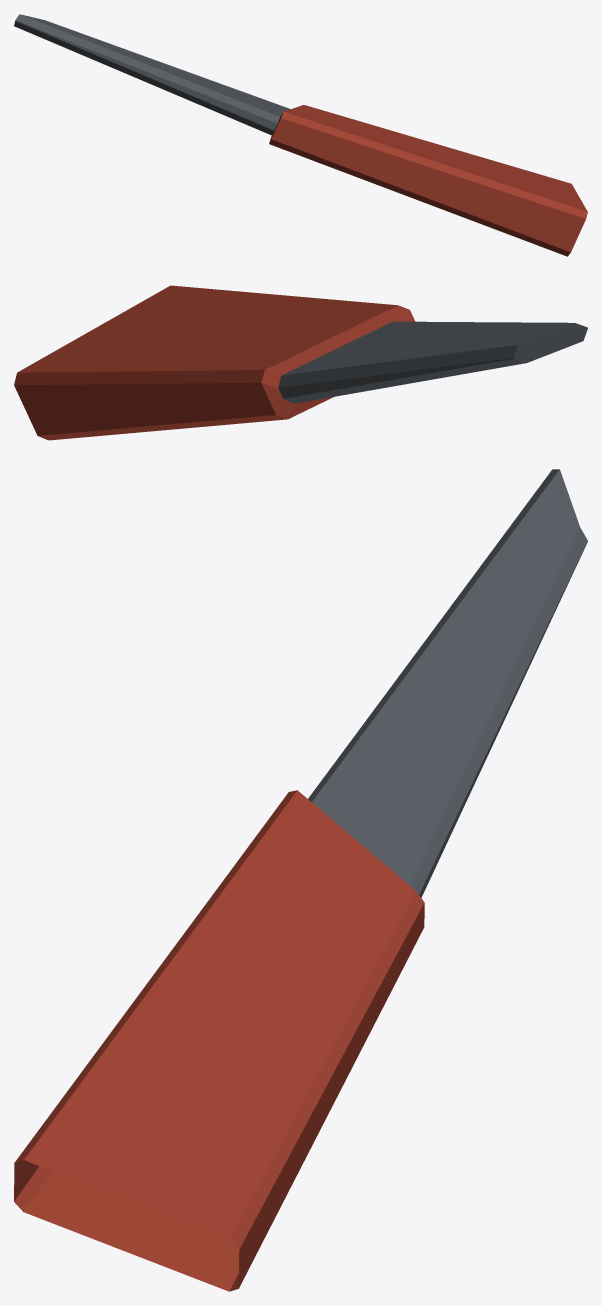
Rendered from Dropship_05_Wing_Right_Red.fbx.
3 views of the same model, one above another, from view 1: azimuth 30°, elevation 25°; view 2: azimuth 150°, elevation 25°; view 3: azimuth 270°, elevation 25° (orthographic). The views are drawn at different scales.
Parts seen in each view (by area): view 1: Dropship_05_Wing_Right_Red; view 2: Dropship_05_Wing_Right_Red; view 3: Dropship_05_Wing_Right_Red.
Part boxes in pixels (x1,y1,x2,y2): Dropship_05_Wing_Right_Red: (14,14,587,256); Dropship_05_Wing_Right_Red: (14,285,587,440); Dropship_05_Wing_Right_Red: (14,469,587,1291).
Size of the model in its own units: 452 by 234 by 274.
Materials: 1 (1 with a texture image).
